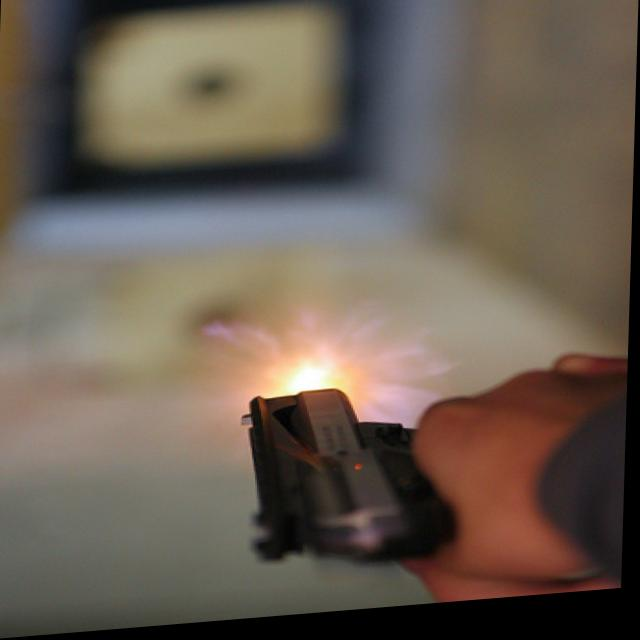handgun: (229, 388, 467, 583)
